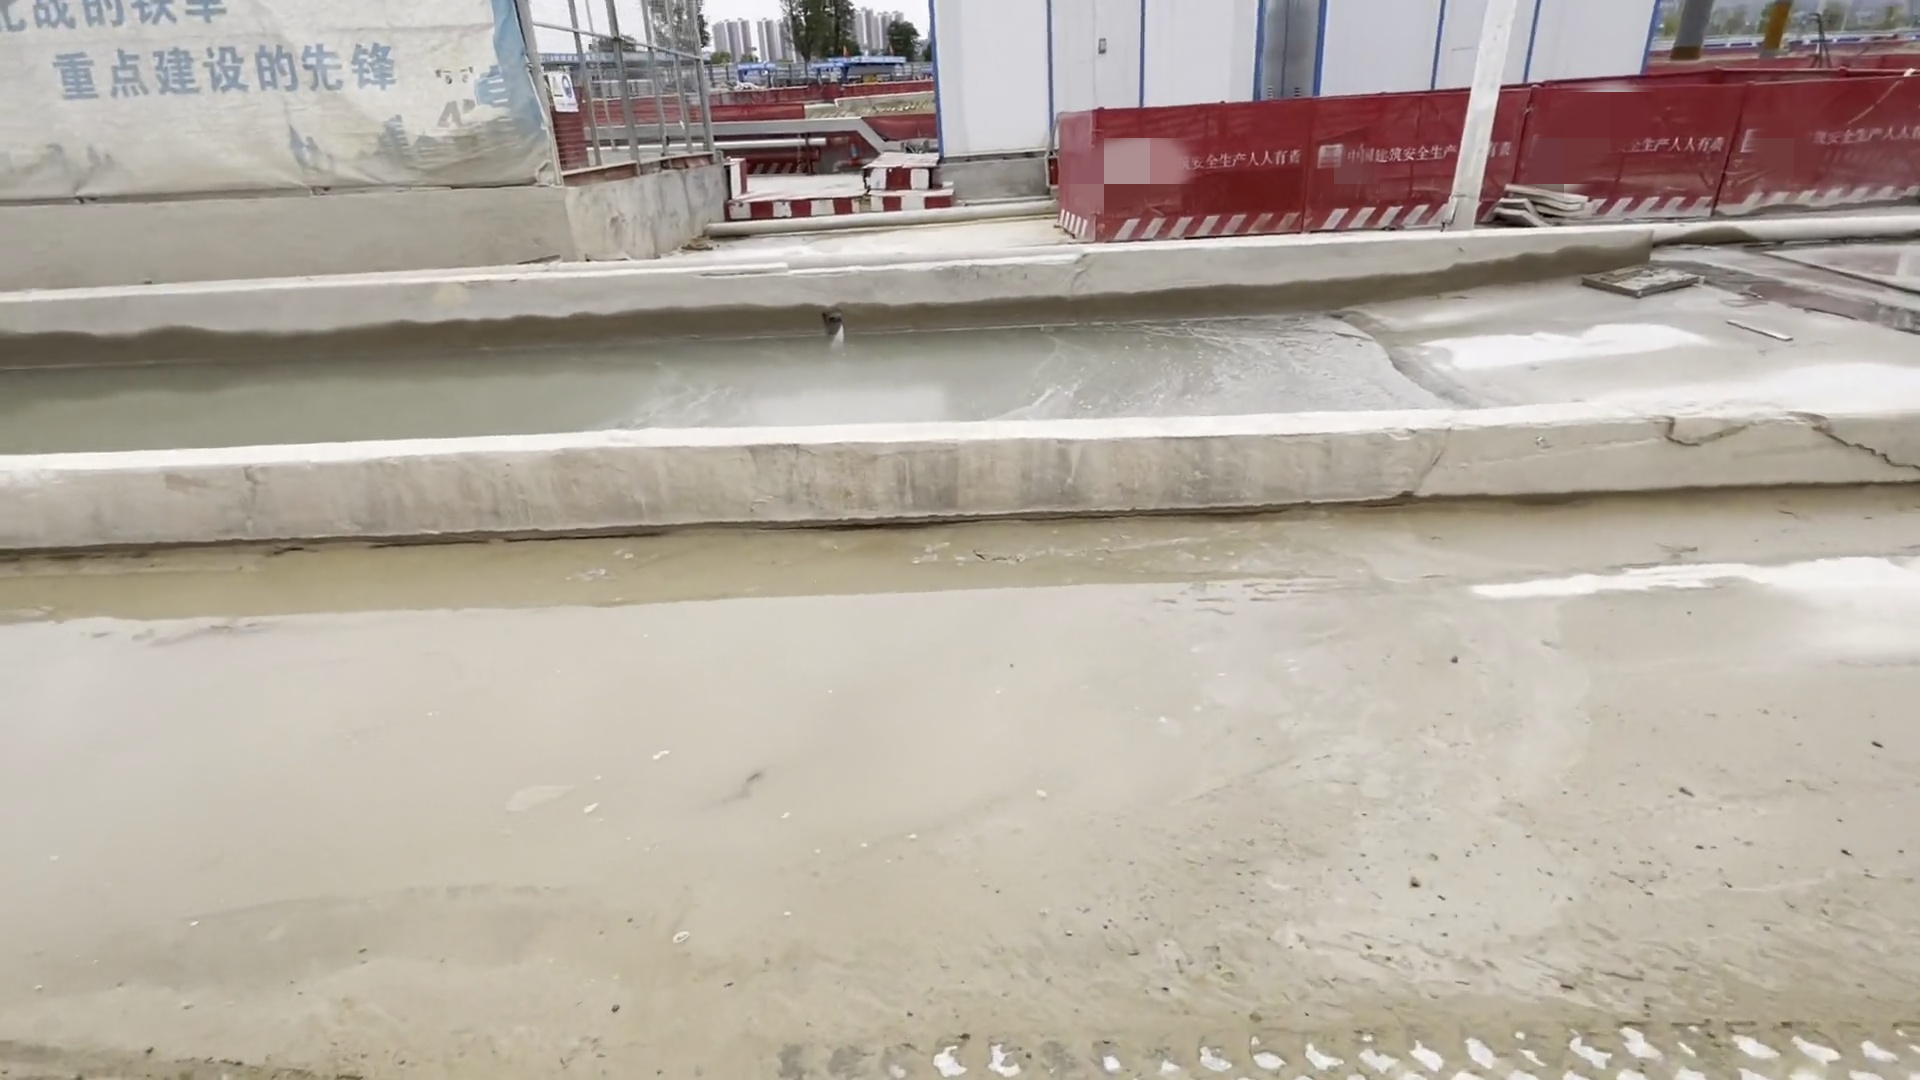fence: (1060, 100, 1920, 218)
slogan: (12, 1, 414, 105)
